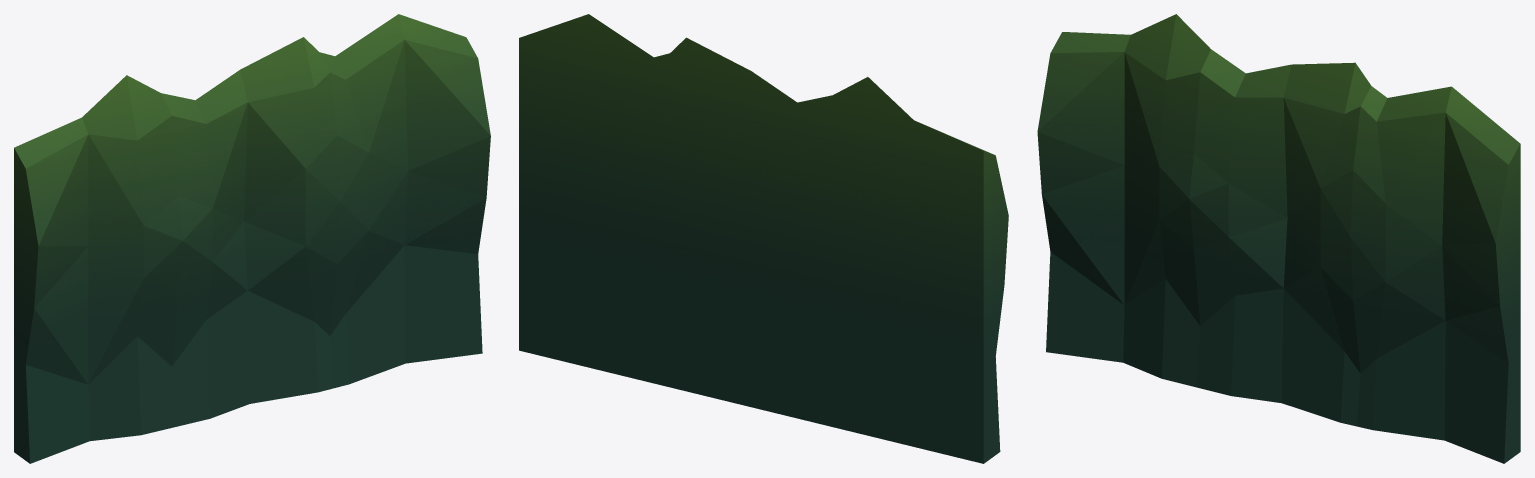
Rendered from Mod_Wall_Middle.fbx.
3 views of the same model, side by side, from view 1: azimuth 30°, elevation 25°; view 2: azimuth 150°, elevation 25°; view 3: azimuth 330°, elevation 25° (orthographic). The views are drawn at different scales.
Visible parts, largest first — view 1: Mod_Wall_Straight; view 2: Mod_Wall_Straight; view 3: Mod_Wall_Straight.
Part boxes in pixels (left/top/right/bottom): Mod_Wall_Straight: left=14, top=14, right=490, bottom=463; Mod_Wall_Straight: left=519, top=14, right=1008, bottom=463; Mod_Wall_Straight: left=1037, top=14, right=1520, bottom=463.
Bounding box in the file's own units: 16.23 × 11.98 × 1.52.
1 material, 1 textured.
